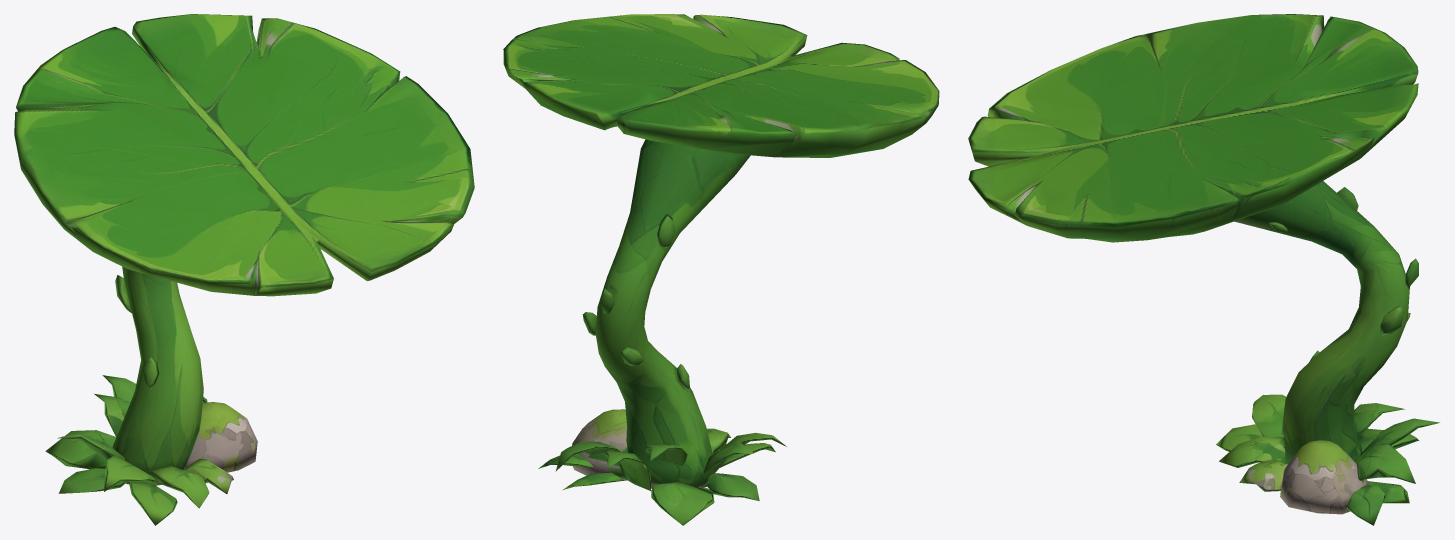
File: Leaf.fbx
The picture shows the model from 3 angles, left to right: view 1: azimuth 30°, elevation 25°; view 2: azimuth 150°, elevation 25°; view 3: azimuth 270°, elevation 25°; orthographic projection. The views are drawn at different scales.
Parts seen in each view (by area): view 1: Leaf; view 2: Leaf; view 3: Leaf.
Part boxes in pixels (x1,y1,x2,y2): Leaf: [14, 14, 474, 525]; Leaf: [503, 14, 939, 525]; Leaf: [968, 14, 1439, 525].
Size of the model in its own units: 1.38 by 1.36 by 1.45.
1 material, 1 textured.
